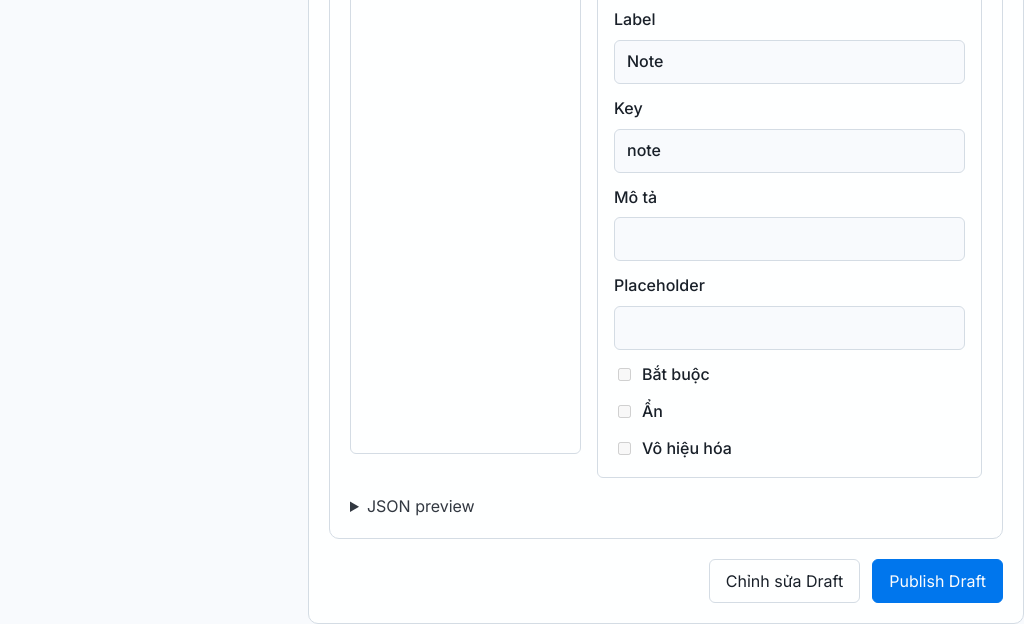
Test: Form Template lifecycle UI › keeps edited content and offers reload after a stale conflict
(page scrolled)
Click the button "Chỉnh sửa Draft" at [785, 581], box x1=709 y1=559 x2=860 y2=603
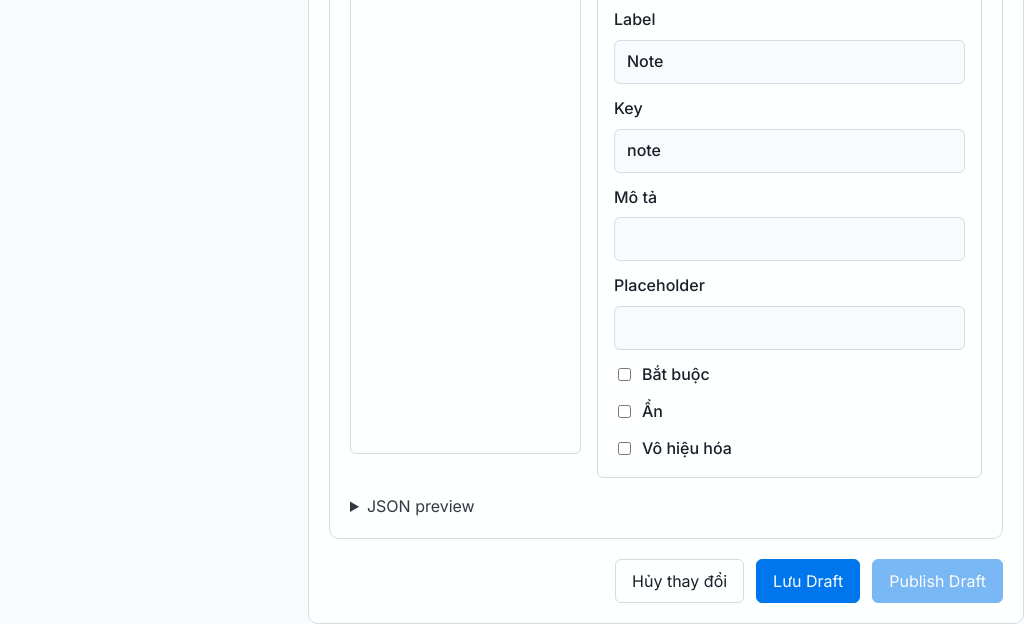
Replace the text in the field labelled "Label" with "Unsaved note" at [790, 62], box x1=614 y1=40 x2=965 y2=84
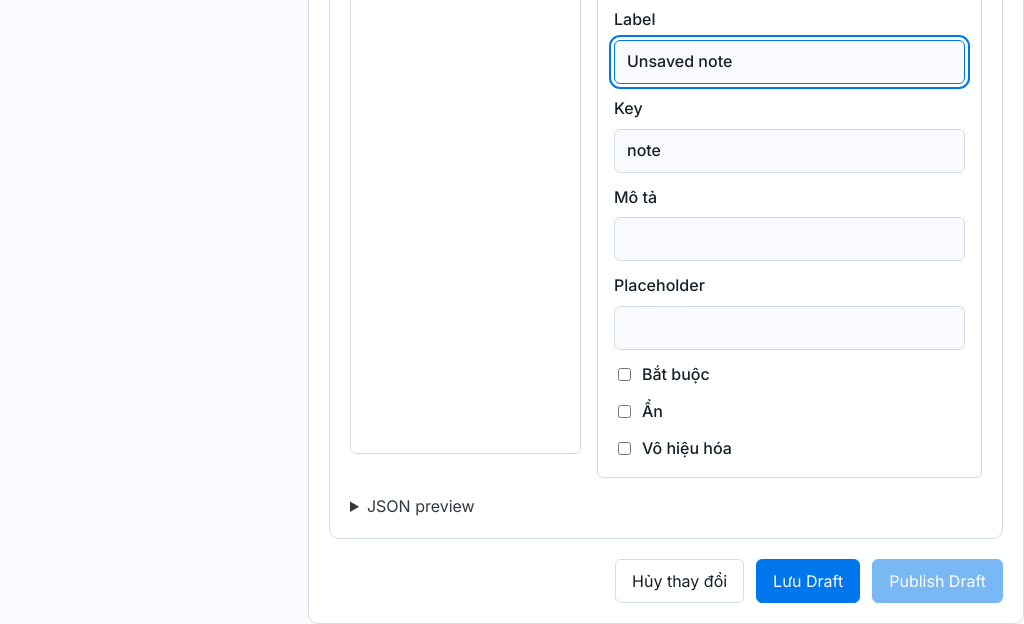
Click the button "Lưu Draft" at [808, 581], box x1=756 y1=559 x2=860 y2=603
(page scrolled)
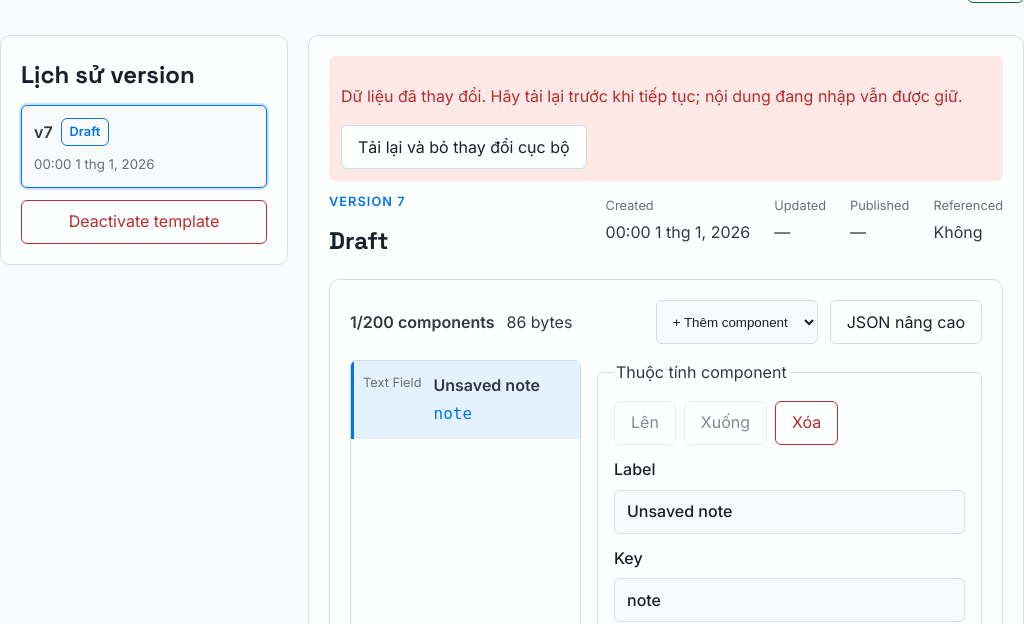
Now the message shows "Dữ liệu đã thay đổi", box x1=341 y1=86 x2=963 y2=106
Now the button "Tải lại và bỏ thay đổi cục bộ" is shown, box x1=341 y1=125 x2=586 y2=169
